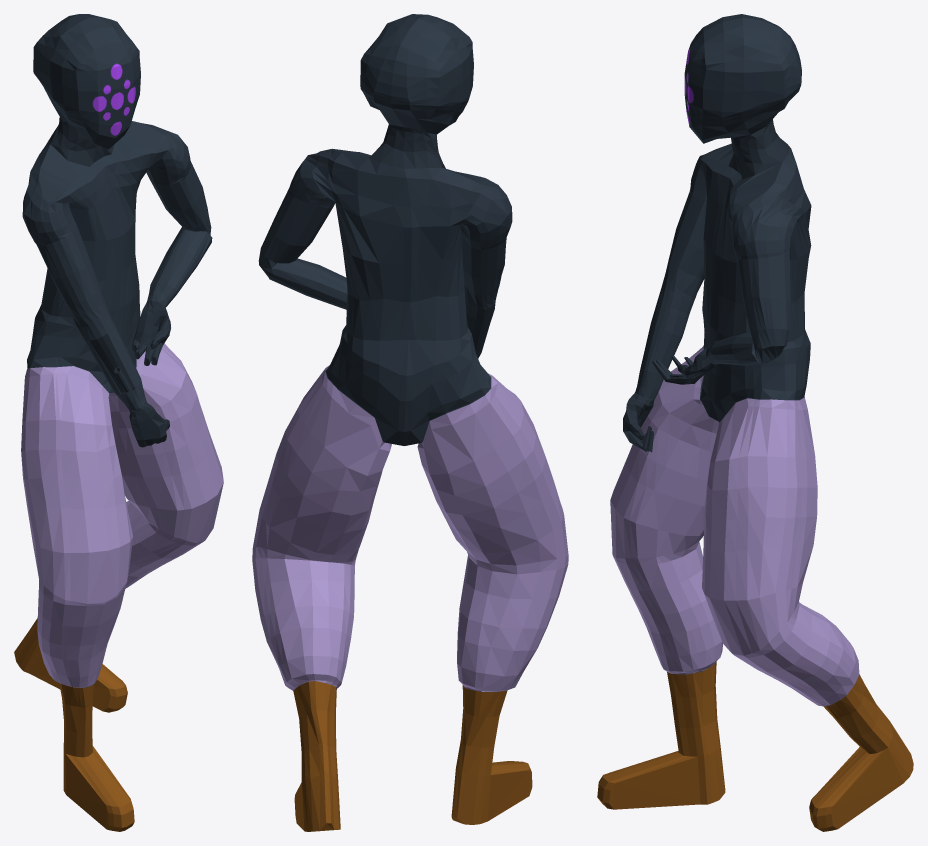
Rendered from Oracle_WB_000007.obj.
3 views of the same model, side by side, from view 1: azimuth 30°, elevation 25°; view 2: azimuth 150°, elevation 25°; view 3: azimuth 270°, elevation 25° (orthographic). The views are drawn at different scales.
Visible parts, largest first — view 1: Cube; view 2: Cube; view 3: Cube.
Part boxes in pixels (<box>): Cube: <box>14,14,223,831</box>; Cube: <box>252,14,568,831</box>; Cube: <box>597,14,913,831</box>.
Size of the model in its own units: 1.22 by 3.83 by 1.37.
